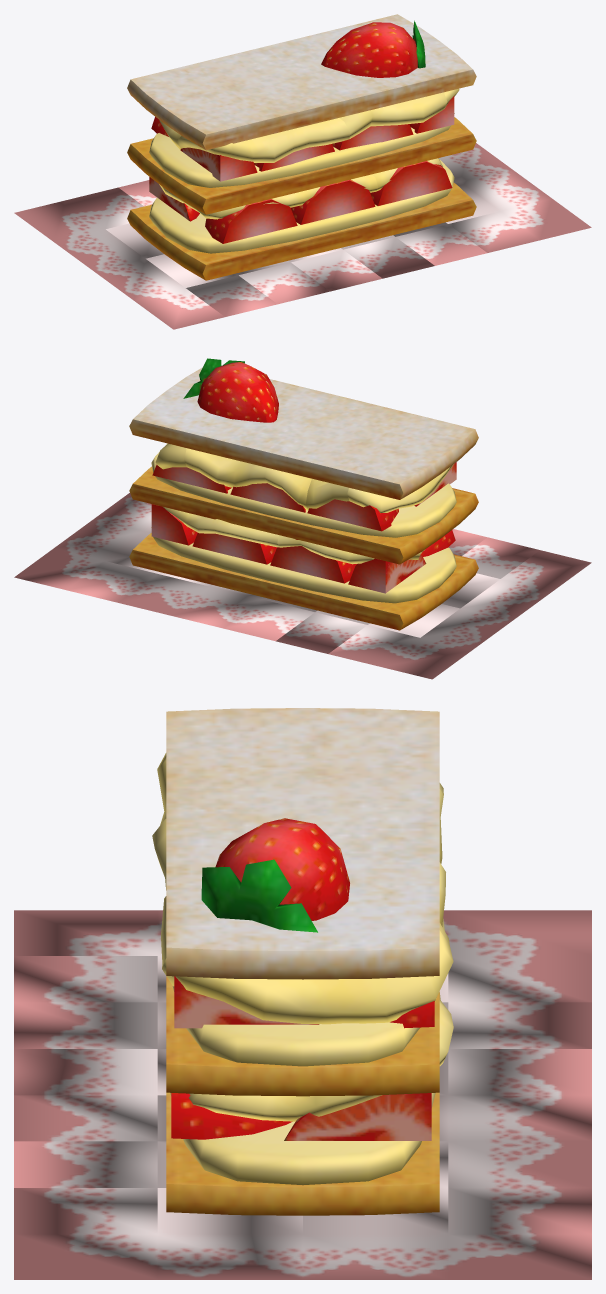
Rendered from pastel.glb.
The picture shows the model from 3 angles, top to bottom: view 1: azimuth 30°, elevation 25°; view 2: azimuth 150°, elevation 25°; view 3: azimuth 270°, elevation 25°; orthographic projection. The views are drawn at different scales.
Visible parts, largest first — view 1: tart_ma (×2), lace01_ma, strberry_ma (×2); view 2: tart_ma (×2), lace01_ma, strberry_ma (×2); view 3: lace01_ma, tart_ma (×2), strberry_ma (×2).
Part boxes in pixels (left/top/right/bottom): tart_ma (×2): left=127, top=14, right=476, bottom=280; lace01_ma: left=14, top=143, right=591, bottom=329; strberry_ma (×2): left=149, top=20, right=454, bottom=243; tart_ma (×2): left=129, top=367, right=478, bottom=630; lace01_ma: left=14, top=493, right=591, bottom=679; strberry_ma (×2): left=151, top=358, right=456, bottom=593; lace01_ma: left=14, top=910, right=591, bottom=1279; tart_ma (×2): left=152, top=708, right=453, bottom=1215; strberry_ma (×2): left=171, top=818, right=434, bottom=1140.
Size of the model in its own units: 1.21 by 0.4989 by 0.7988.
3 materials, 3 textured.
